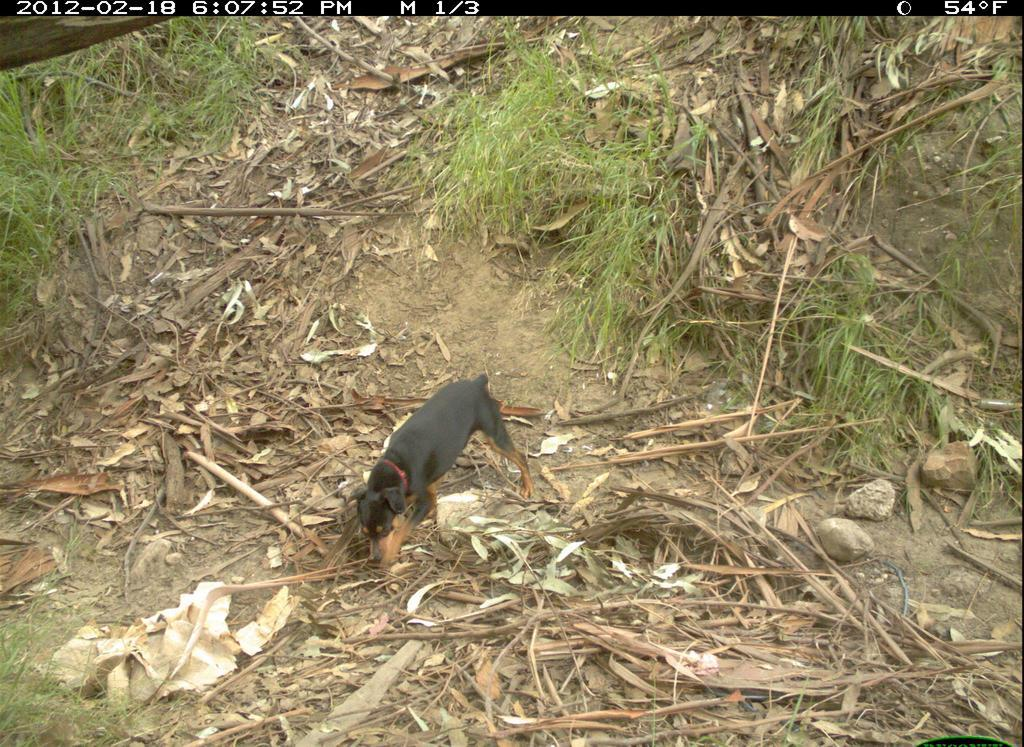dog: (350, 369, 542, 577)
